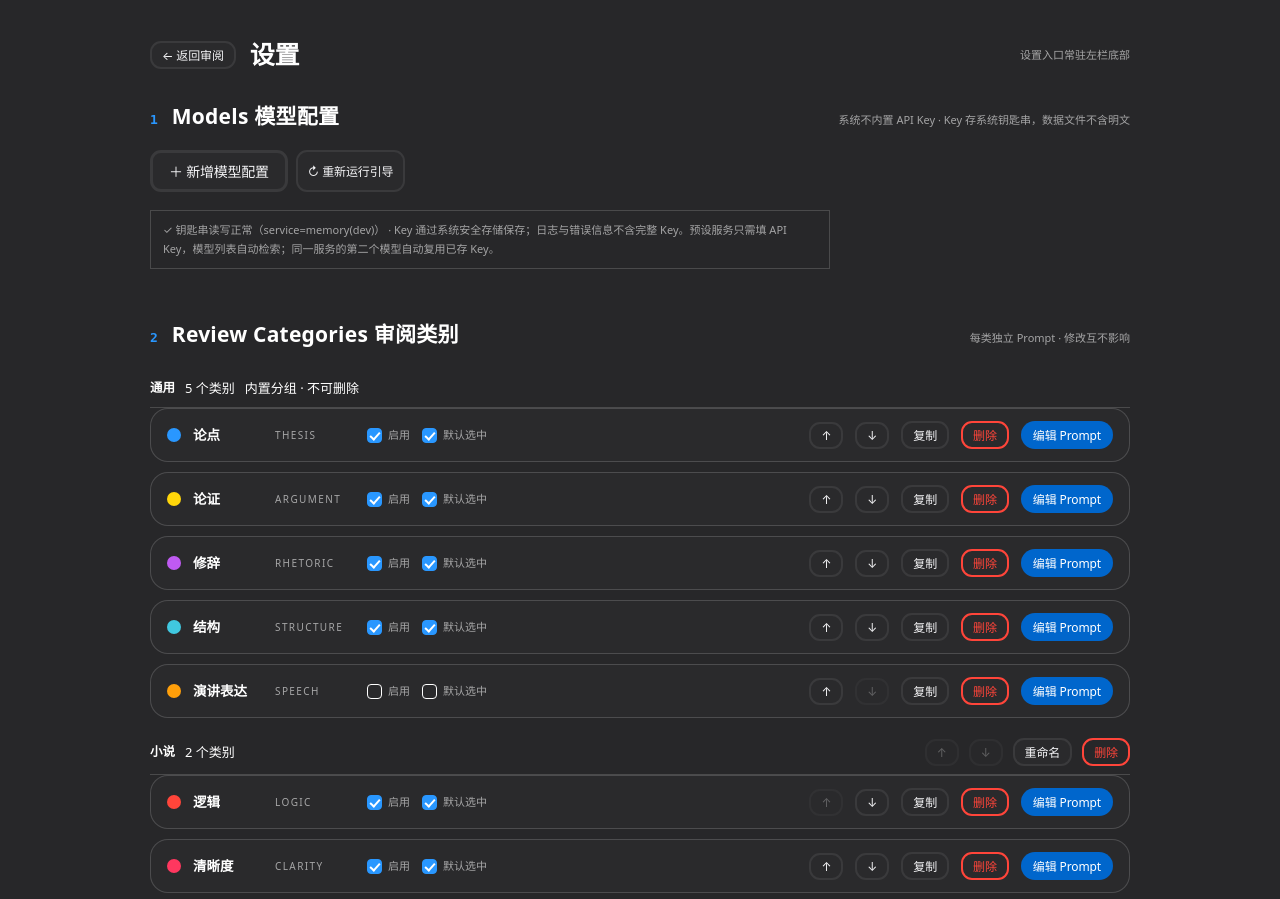
Test case: 类别分组（spec: settings 类别分组管理） › 删除分组：确认文案含「N 个类别将移回通用」，确认后组移除、类别回落通用分节
Click the button with test id "group-delete": [1106, 752] box x1=1082 y1=738 x2=1130 y2=766
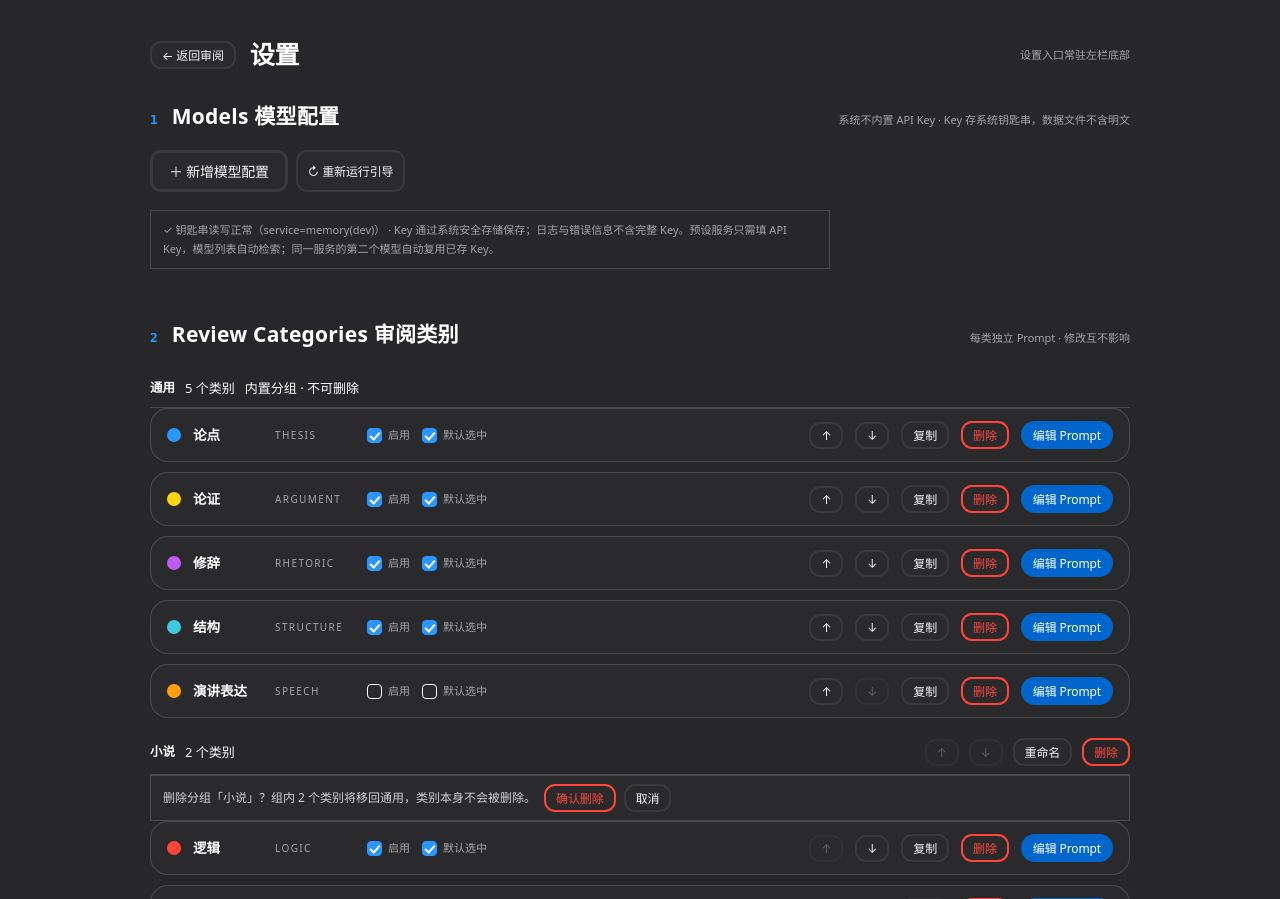
Check: the element with test id "group-delete-confirm" shows "2 个类别将移回通用", box x1=163 y1=789 x2=536 y2=806
Check: the element with test id "group-delete-confirm" shows "类别本身不会被删除", box x1=163 y1=789 x2=536 y2=806
Click the button with test id "group-delete-confirm-ok": [580, 798] box x1=544 y1=784 x2=616 y2=812
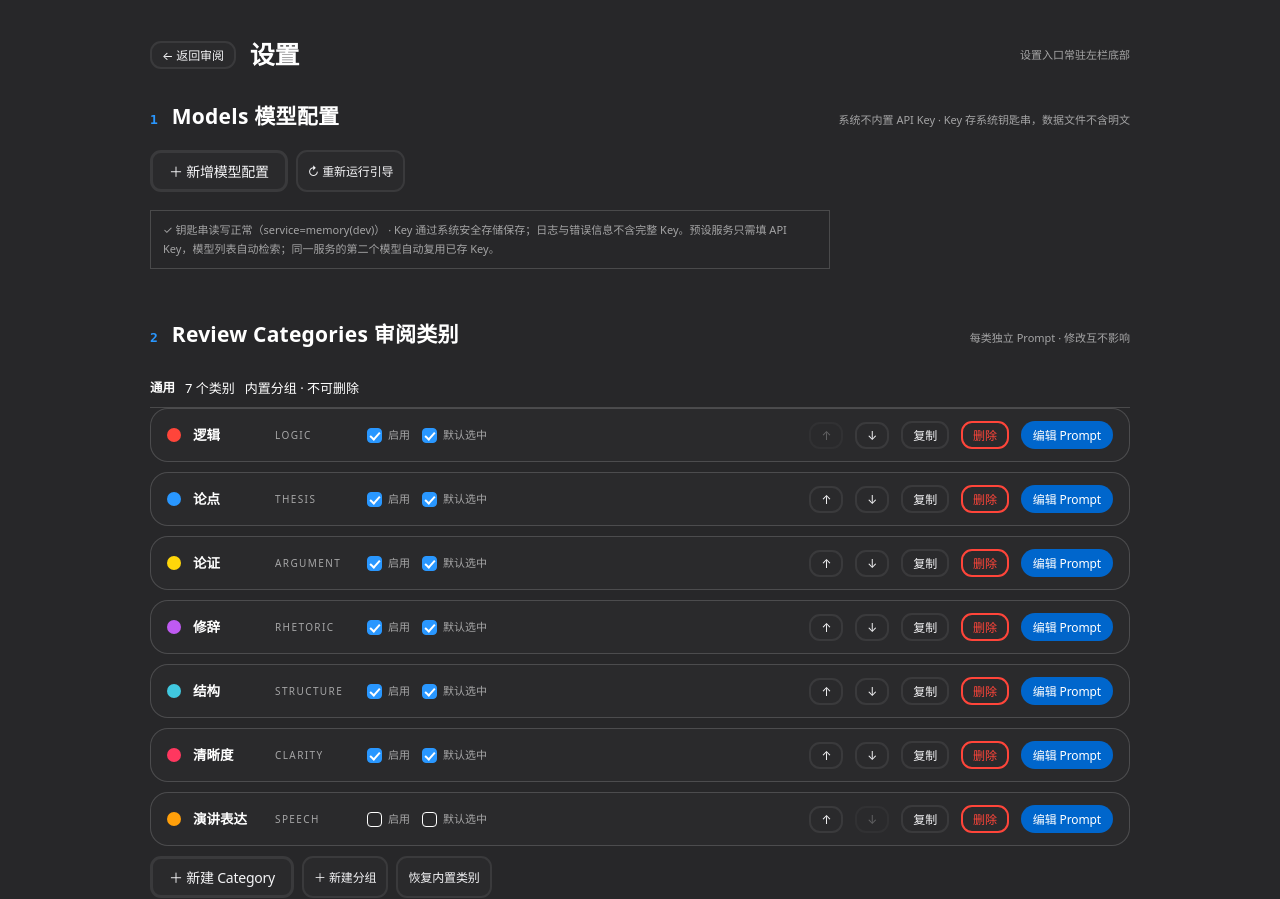
Check: the element that starts with "7 个类别" shows "逻辑", box x1=193 y1=426 x2=220 y2=444
